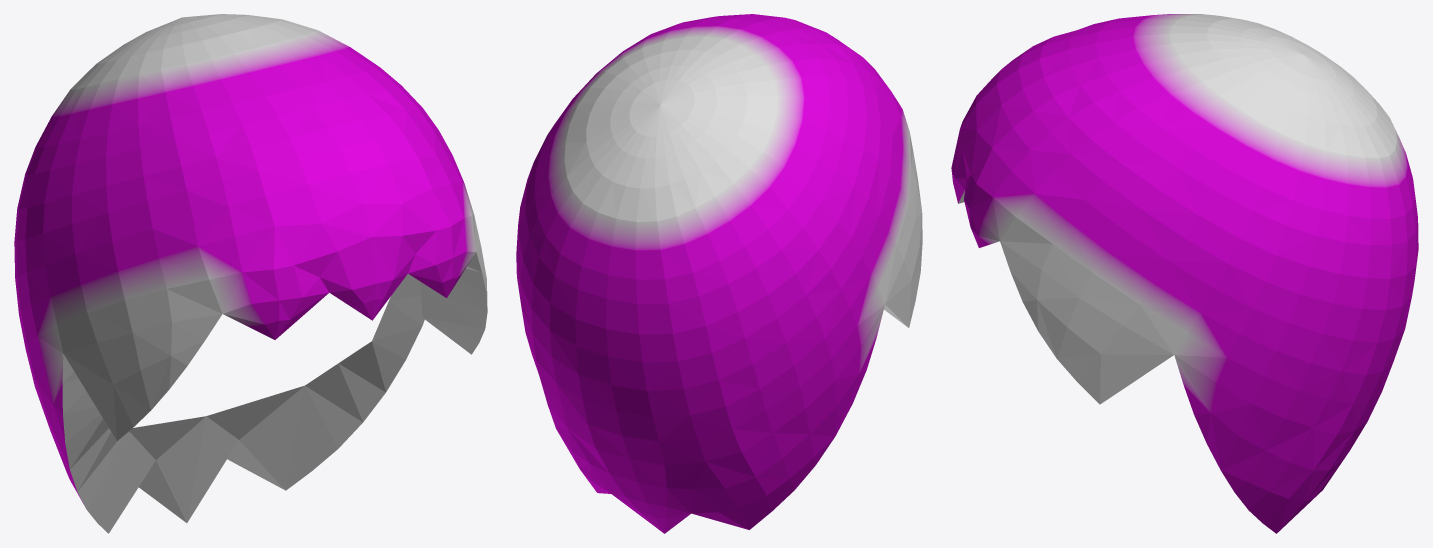
File: hair_14.glb
3 views of the same model, side by side, from view 1: azimuth 30°, elevation 25°; view 2: azimuth 150°, elevation 25°; view 3: azimuth 270°, elevation 25° (orthographic). The views are drawn at different scales.
Visible parts, largest first — view 1: shape; view 2: shape; view 3: shape.
Part boxes in pixels (x1,y1,x2,y2): shape: [14, 14, 487, 533]; shape: [516, 14, 922, 533]; shape: [951, 14, 1418, 533].
Size of the model in its own units: 57.26 by 75.68 by 67.
